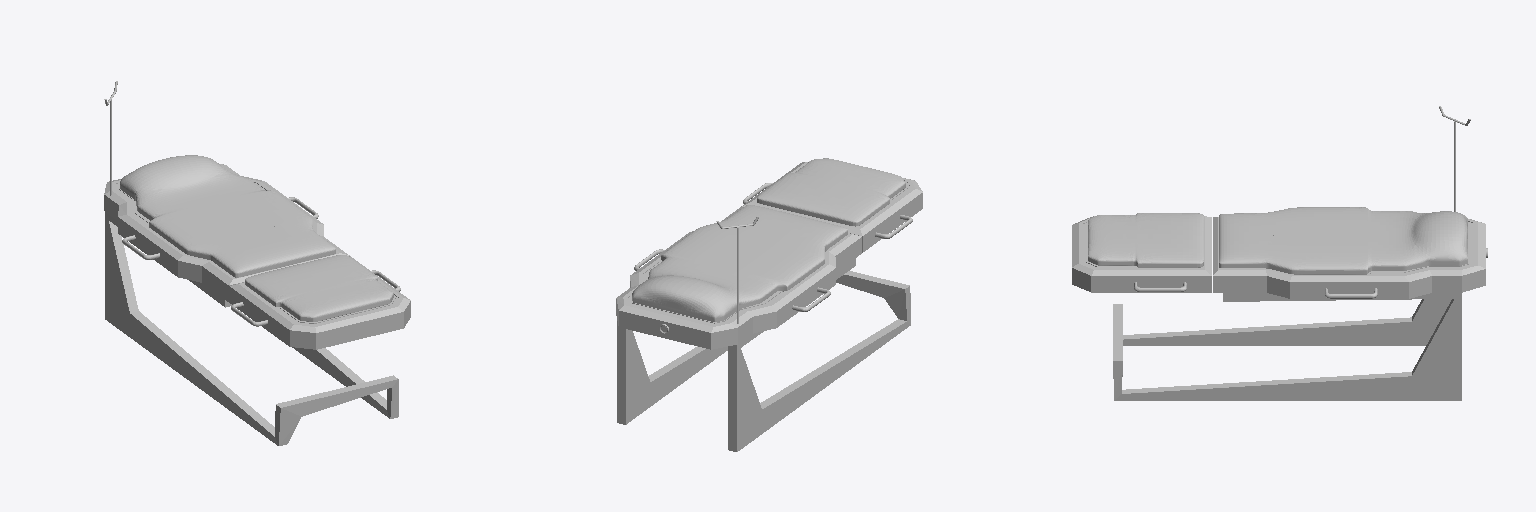
File: Hospital Bed.obj
The picture shows the model from 3 angles: view 1: azimuth 30°, elevation 25°; view 2: azimuth 150°, elevation 25°; view 3: azimuth 270°, elevation 25°; orthographic projection.
Visible parts, largest first — view 1: Cube.002_Cube, Cube.006_Cube.009, Cube.003, Cube.001_Cube.002, Cube_Cube.001, Cylinder.002; view 2: Cube.002_Cube, Cube.006_Cube.009, Cube_Cube.001, Cube.003, Cube.001_Cube.002, Cylinder.002; view 3: Cube.006_Cube.009, Cube.002_Cube, Cube_Cube.001, Cube.003, Cube.001_Cube.002, Cylinder.002.
Boxes of the visible parts, x1=… form: Cube.002_Cube: x1=120, y1=155, x2=335, y2=277; Cube.006_Cube.009: x1=105, y1=212, x2=398, y2=445; Cube.003: x1=245, y1=255, x2=393, y2=321; Cube.001_Cube.002: x1=229, y1=256, x2=410, y2=349; Cube_Cube.001: x1=104, y1=163, x2=349, y2=301; Cylinder.002: x1=122, y1=197, x2=400, y2=326; Cube.002_Cube: x1=632, y1=205, x2=847, y2=321; Cube.006_Cube.009: x1=617, y1=258, x2=910, y2=451; Cube_Cube.001: x1=616, y1=207, x2=861, y2=349; Cube.003: x1=757, y1=158, x2=905, y2=226; Cube.001_Cube.002: x1=741, y1=161, x2=922, y2=252; Cylinder.002: x1=634, y1=183, x2=912, y2=311; Cube.006_Cube.009: x1=1113, y1=293, x2=1461, y2=400; Cube.002_Cube: x1=1219, y1=207, x2=1467, y2=274; Cube_Cube.001: x1=1213, y1=211, x2=1485, y2=298; Cube.003: x1=1088, y1=213, x2=1203, y2=267; Cube.001_Cube.002: x1=1072, y1=216, x2=1211, y2=292; Cylinder.002: x1=1134, y1=282, x2=1377, y2=298.
Bounding box in the file's own units: 9.9 × 12.49 × 20.47.